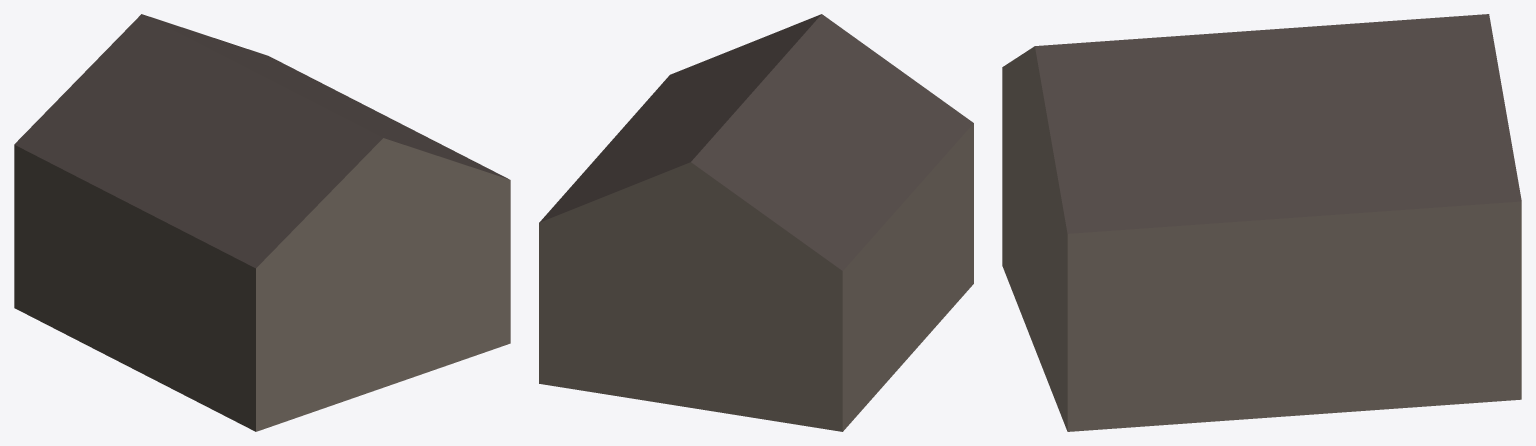
The picture shows the model from 3 angles, left to right: view 1: azimuth 30°, elevation 25°; view 2: azimuth 150°, elevation 25°; view 3: azimuth 270°, elevation 25°; orthographic projection. The views are drawn at different scales.
Visible parts, largest first — view 1: HP-w859457492; view 2: HP-w859457492; view 3: HP-w859457492.
Boxes of the visible parts, x1,y1,x2,y2 form: HP-w859457492: (14,14,510,431); HP-w859457492: (539,14,973,431); HP-w859457492: (1002,14,1521,431).
Size of the model in its own units: 12.91 by 9.17 by 14.27.
